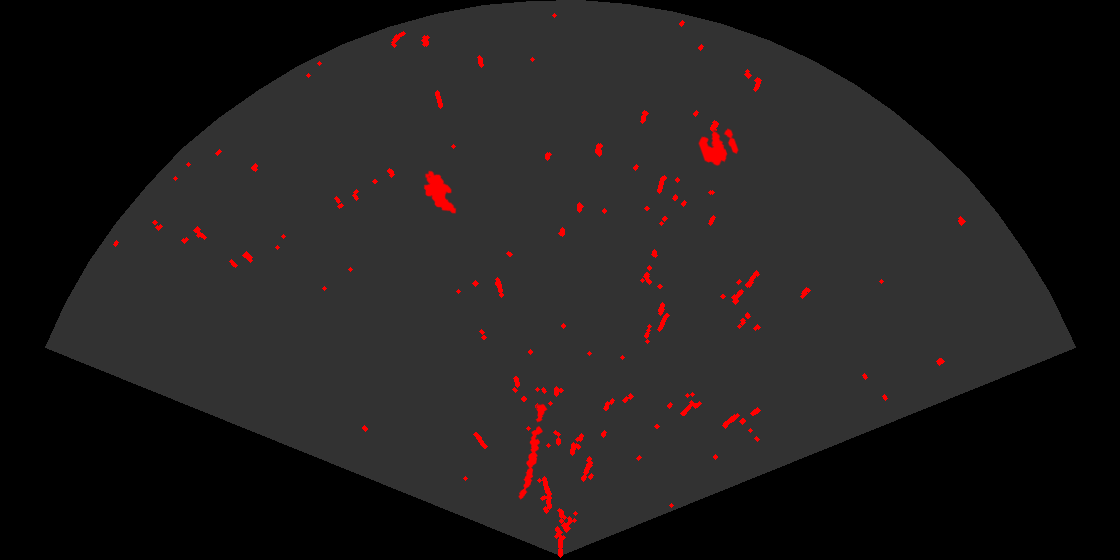AUV: (422, 169, 458, 215)
ball: (697, 127, 740, 167)
chain: (517, 401, 549, 501)
